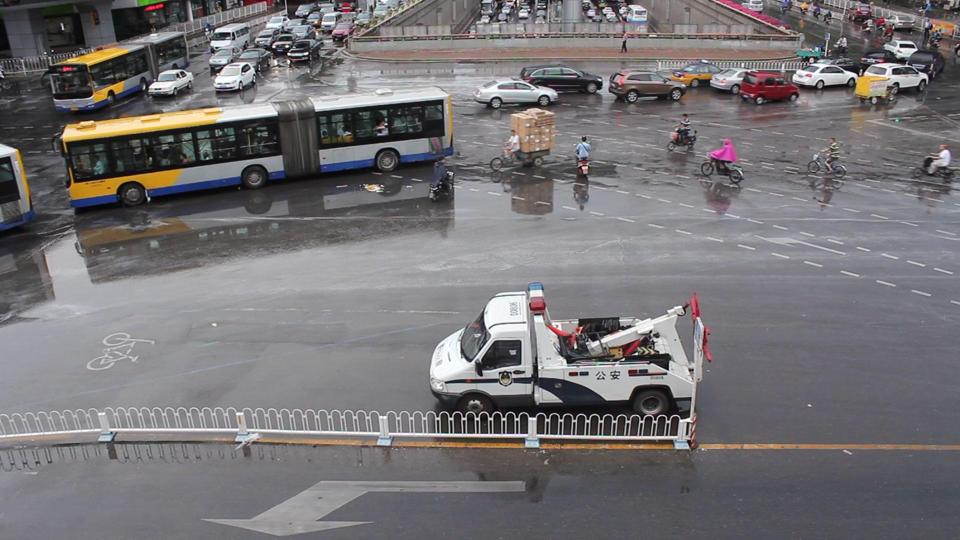Bus: (64, 88, 451, 202)
Car: (473, 77, 556, 110), (519, 63, 601, 96), (607, 69, 684, 101), (739, 72, 798, 104), (790, 61, 855, 87), (710, 66, 771, 91), (671, 62, 728, 84)
Truck: (428, 285, 695, 420)
